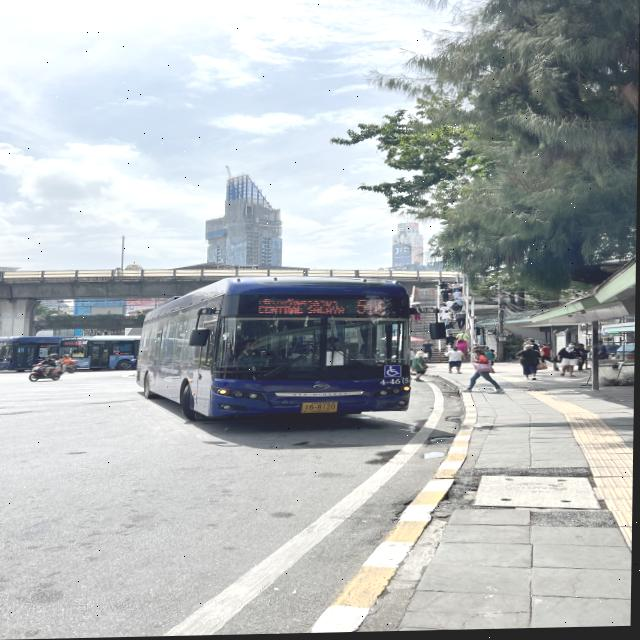Bus-Line-Number: (353, 297, 386, 318)
Destination-Sign-Normal: (261, 297, 348, 319)
TSB-Bus: (137, 277, 415, 425)
